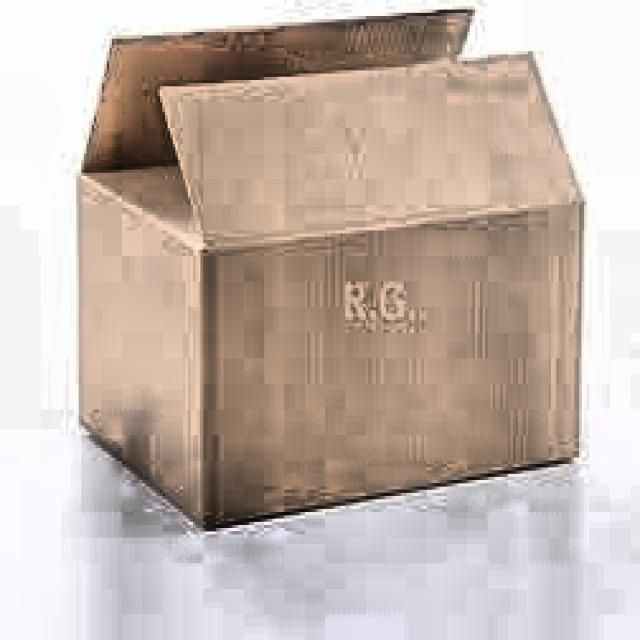Cardbox: (67, 0, 595, 545)
